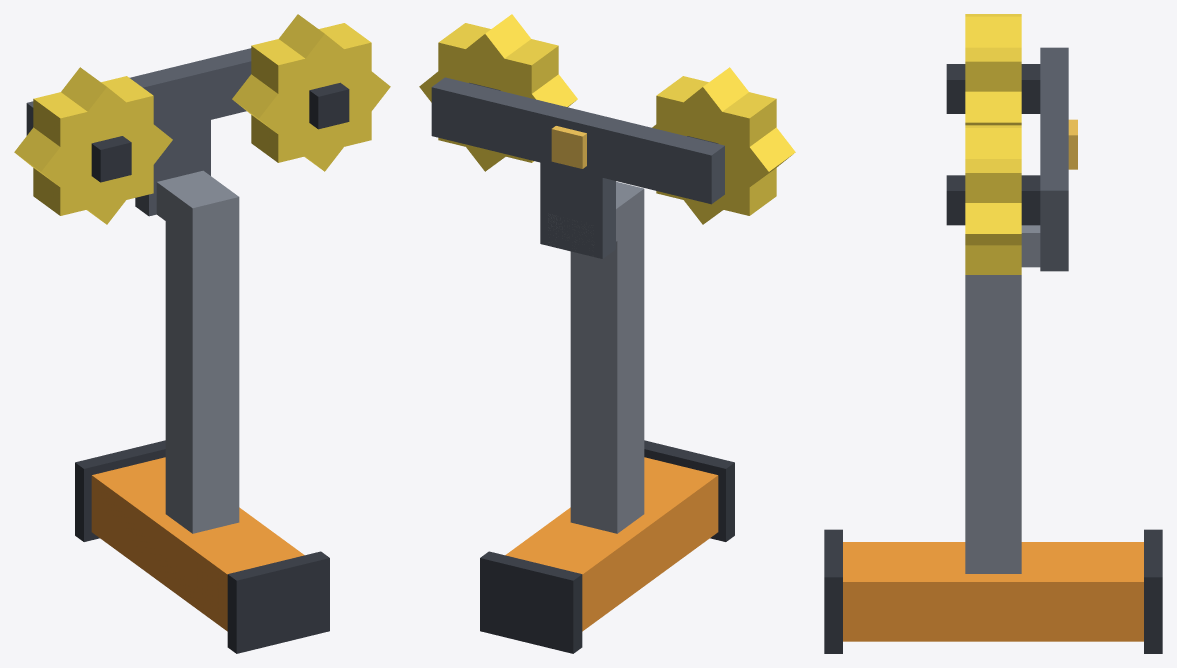
File: zip_handle.glb
The picture shows the model from 3 angles, left to right: view 1: azimuth 30°, elevation 25°; view 2: azimuth 150°, elevation 25°; view 3: azimuth 270°, elevation 25°; orthographic projection. The views are drawn at different scales.
Parts seen in each view (by area): view 1: body.044, roller_a, roller_b; view 2: body.044, roller_a, roller_b; view 3: body.044, roller_b, roller_a.
Part boxes in pixels (left/top/right/bottom): body.044: left=26, top=48, right=329, bottom=653; roller_a: left=14, top=67, right=172, bottom=224; roller_b: left=232, top=14, right=390, bottom=171; body.044: left=431, top=77, right=734, bottom=653; roller_a: left=652, top=67, right=795, bottom=224; roller_b: left=419, top=14, right=577, bottom=171; body.044: left=824, top=47, right=1162, bottom=653; roller_b: left=946, top=125, right=1040, bottom=274; roller_a: left=946, top=14, right=1040, bottom=125.
Size of the model in its own units: 0.7027 by 1.02 by 0.5625.
